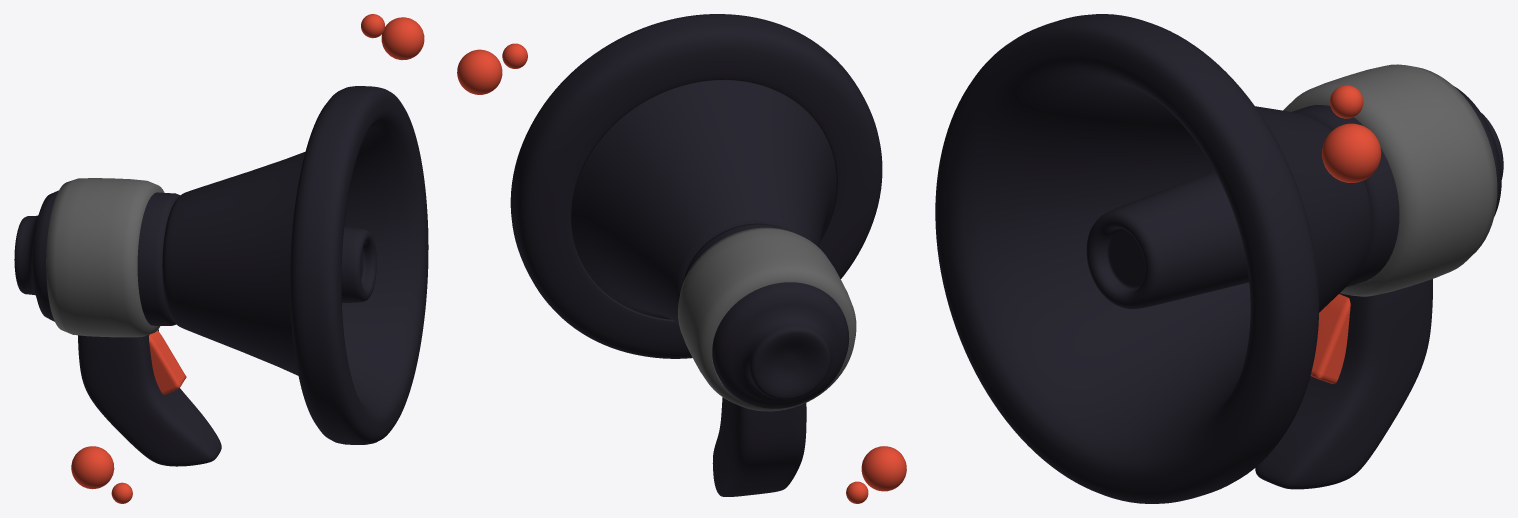
3 renders of one model, left to right at view 1: azimuth 30°, elevation 25°; view 2: azimuth 150°, elevation 25°; view 3: azimuth 270°, elevation 25°, orthographic. The views are drawn at different scales.
Parts seen in each view (by area): view 1: Cylinder.031, Cylinder.033, Cube.042, Cylinder.032, Sphere.040, Sphere.038, Cube.043, Sphere.037; view 2: Cylinder.031, Cylinder.032, Cylinder.033, Cube.042, Sphere.040, Sphere.038, Sphere.037; view 3: Cylinder.031, Cylinder.033, Cube.042, Cylinder.032, Sphere.038, Cube.043, Sphere.037.
Part boxes in pixels (box(x1,y1,x2,y2)): Cylinder.031: box(162, 86, 428, 444); Cylinder.033: box(46, 178, 164, 337); Cube.042: box(78, 329, 221, 466); Cylinder.032: box(14, 190, 179, 325); Sphere.040: box(71, 446, 114, 489); Sphere.038: box(381, 17, 424, 60); Cube.043: box(149, 330, 186, 394); Sphere.037: box(361, 14, 384, 38); Cylinder.031: box(510, 14, 882, 358); Cylinder.032: box(683, 223, 849, 408); Cylinder.033: box(678, 227, 856, 411); Cube.042: box(712, 397, 806, 496); Sphere.040: box(861, 446, 906, 491); Sphere.038: box(457, 49, 502, 94); Sphere.037: box(502, 43, 527, 68); Cylinder.031: box(935, 14, 1371, 503); Cylinder.033: box(1283, 64, 1497, 296); Cube.042: box(1255, 279, 1432, 489); Cylinder.032: box(1292, 86, 1503, 287); Sphere.038: box(1322, 123, 1381, 182); Cube.043: box(1310, 294, 1350, 384); Sphere.037: box(1330, 85, 1363, 118).
Size of the model in its own units: 4.28 by 4.16 by 3.97.
